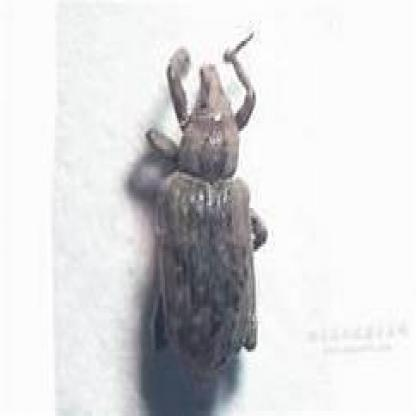rice-bug: (138, 37, 272, 374)
